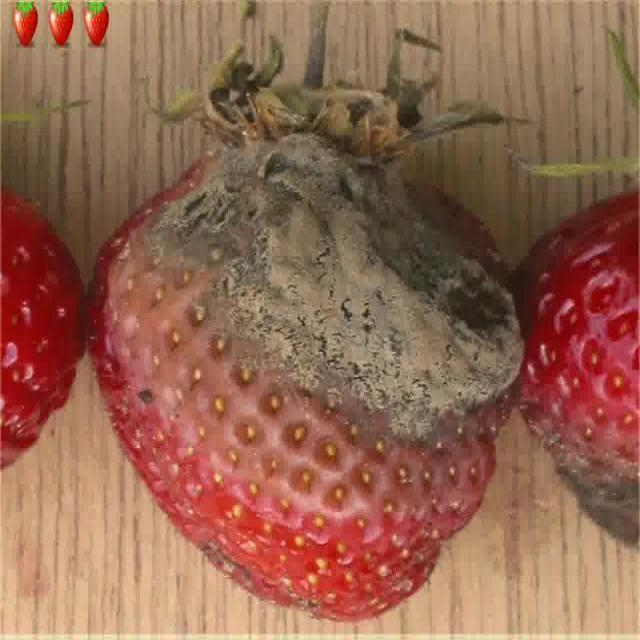Moho gris: (80, 66, 529, 604)
